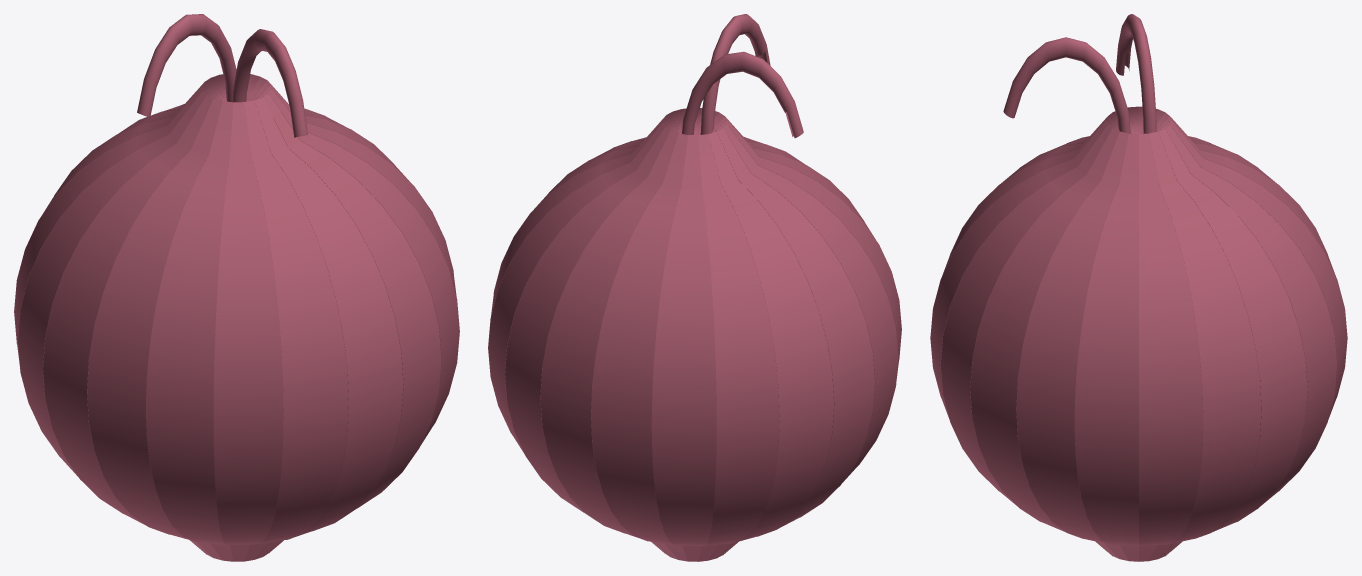
The model's file is OnionWholeFBX.fbx.
The picture shows the model from 3 angles, left to right: view 1: azimuth 30°, elevation 25°; view 2: azimuth 150°, elevation 25°; view 3: azimuth 270°, elevation 25°; orthographic projection. The views are drawn at different scales.
Visible parts, largest first — view 1: pTorus4; view 2: pTorus4; view 3: pTorus4.
Boxes of the visible parts, box(x1,y1,x2,y2) form: pTorus4: box(14, 14, 459, 561); pTorus4: box(488, 14, 901, 561); pTorus4: box(930, 14, 1347, 561).
Size of the model in its own units: 0.4585 by 0.6159 by 0.4585.
